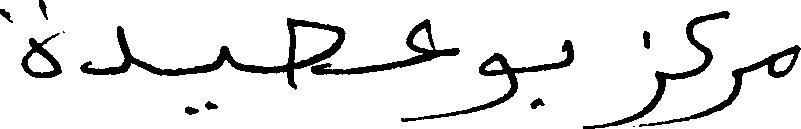X: (407, 14, 456, 126), (614, 26, 666, 128), (0, 0, 61, 82), (687, 6, 727, 125), (288, 13, 346, 94), (82, 21, 130, 79), (479, 48, 516, 115), (769, 40, 800, 82), (729, 8, 741, 109), (563, 35, 574, 71), (218, 41, 230, 73)
